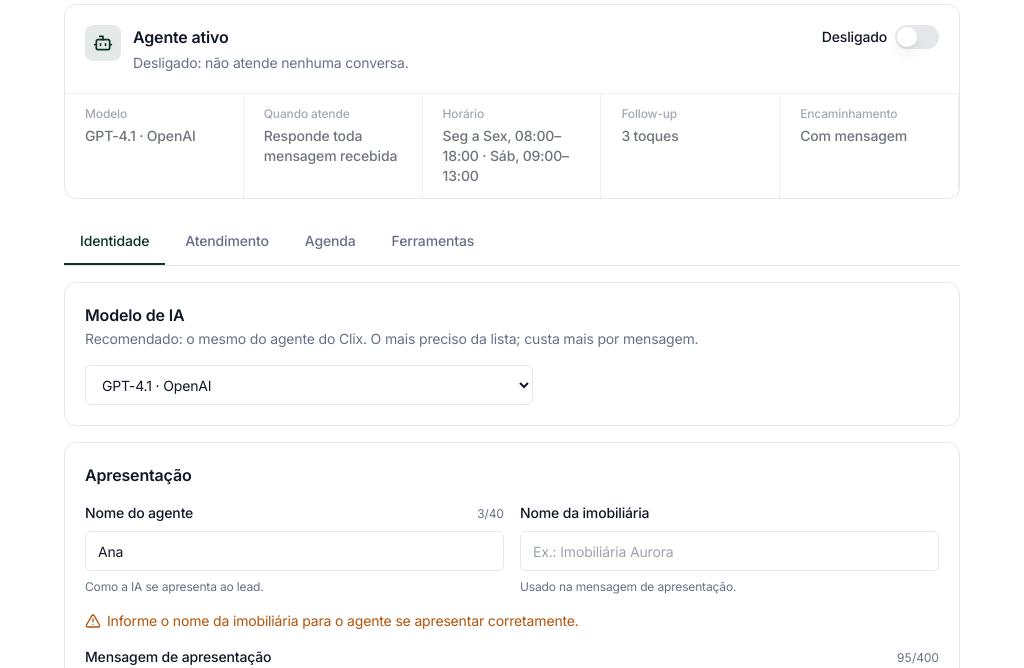
it: shows capability tools as locked and controlled by their own tab
The width and height of the screenshot is (1024, 668).
Click the tab "Ferramentas".
click(433, 242)  # box [376,219,490,265]
(page scrolled)
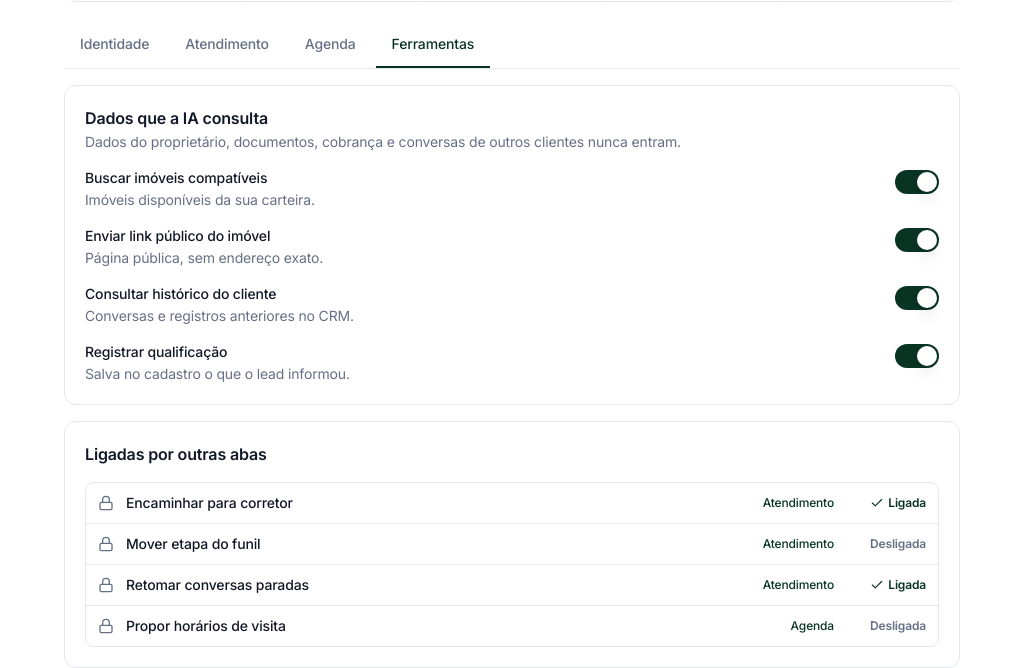
Expected: the switch named "Buscar imóveis compatíveis" is shown, [895,170,939,194]
Expected: the list item "Retomar conversas paradas" shows "Atendimento", [763,577,834,593]
